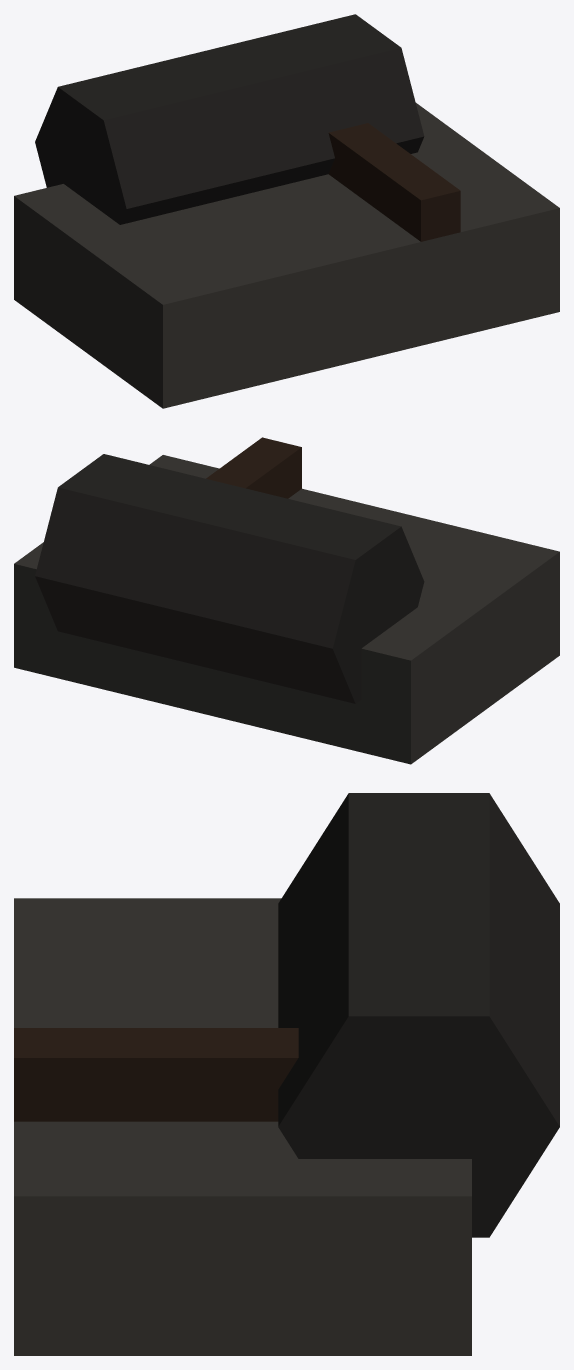
File: hound_pelt.glb
3 renders of one model, top to bottom at view 1: azimuth 30°, elevation 25°; view 2: azimuth 150°, elevation 25°; view 3: azimuth 270°, elevation 25°, orthographic. The views are drawn at different scales.
Parts seen in each view (by area): view 1: HoundPelt; view 2: HoundPelt; view 3: HoundPelt.
Part boxes in pixels (x1,y1,x2,y2): HoundPelt: (14, 14, 559, 408); HoundPelt: (14, 437, 559, 764); HoundPelt: (14, 793, 559, 1355).
Bounding box in the file's own units: 0.4 × 0.1893 × 0.31.
